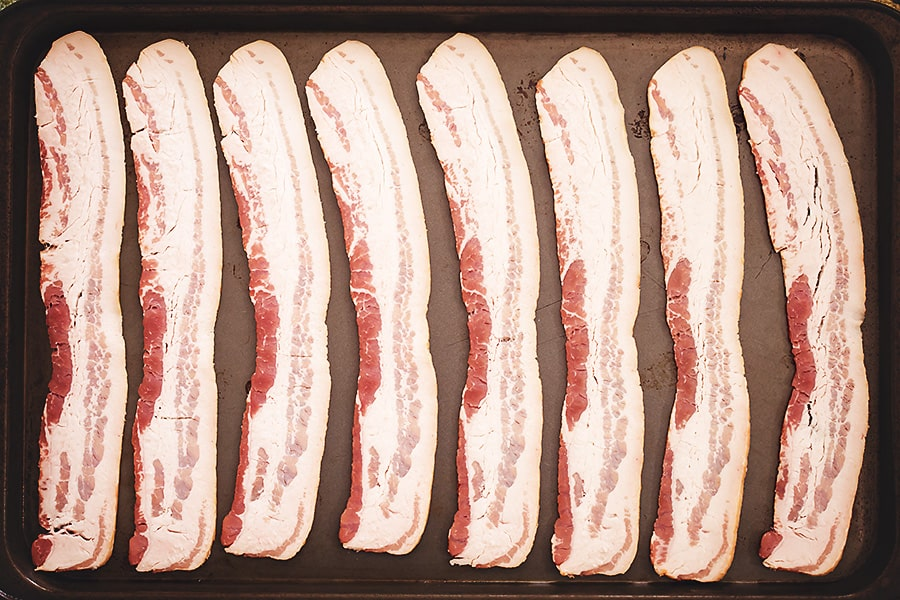bacon: (236, 77, 845, 579), (104, 86, 285, 568), (27, 41, 150, 559)
